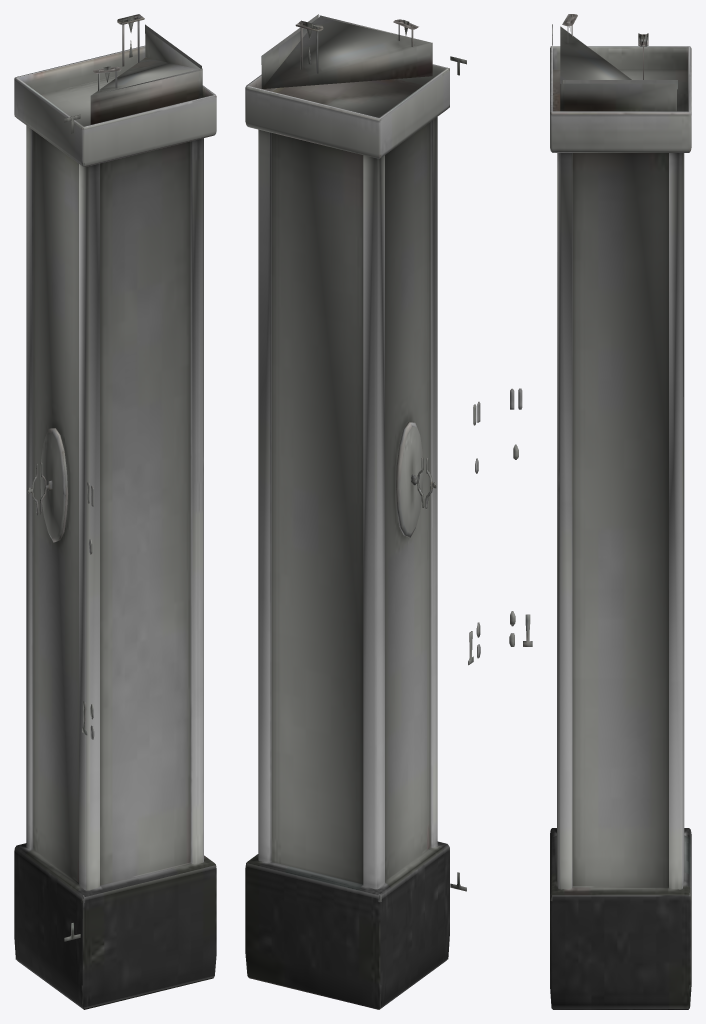
The model's file is subway-column.glb.
The picture shows the model from 3 angles, left to right: view 1: azimuth 30°, elevation 25°; view 2: azimuth 150°, elevation 25°; view 3: azimuth 270°, elevation 25°; orthographic projection.
Parts seen in each view (by area): view 1: tripo_node_d87c8871-648d-4bad-9dea-a52261f72717; view 2: tripo_node_d87c8871-648d-4bad-9dea-a52261f72717; view 3: tripo_node_d87c8871-648d-4bad-9dea-a52261f72717.
Part boxes in pixels (left/top/right/bottom): tripo_node_d87c8871-648d-4bad-9dea-a52261f72717: left=14, top=14, right=216, bottom=1009; tripo_node_d87c8871-648d-4bad-9dea-a52261f72717: left=245, top=14, right=480, bottom=1009; tripo_node_d87c8871-648d-4bad-9dea-a52261f72717: left=509, top=14, right=691, bottom=1009.
Bounding box in the file's own units: 0.58 × 3.35 × 0.58.
Materials: 1 (1 with a texture image).
